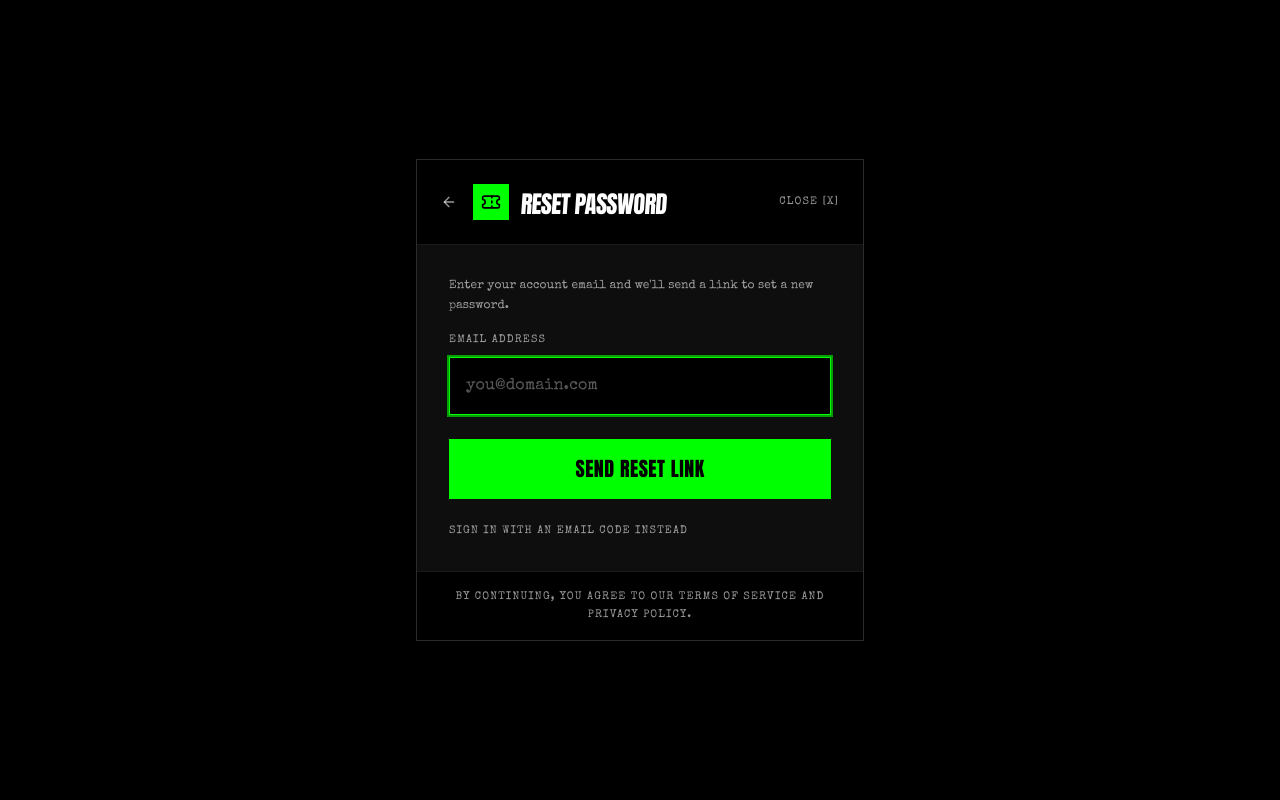
Test: AuthModal: forgot password › shows the same neutral message on success
This screenshot has width=1280, height=800.
Step 1. Type "Fan@Example.com" into the field labelled "Email Address" → (640, 386), box [449,357,831,415]
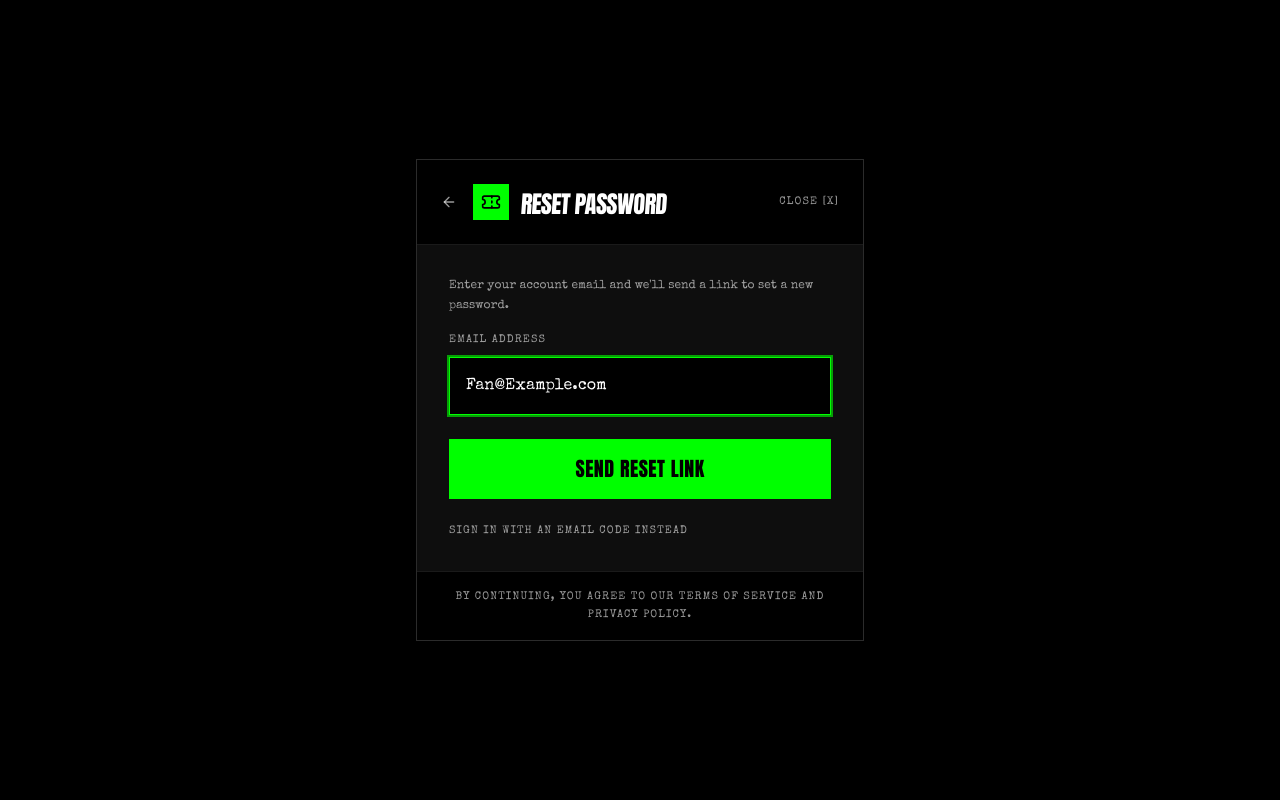
Step 2. Click the button "Send Reset Link" → (640, 469), box [449,439,831,499]
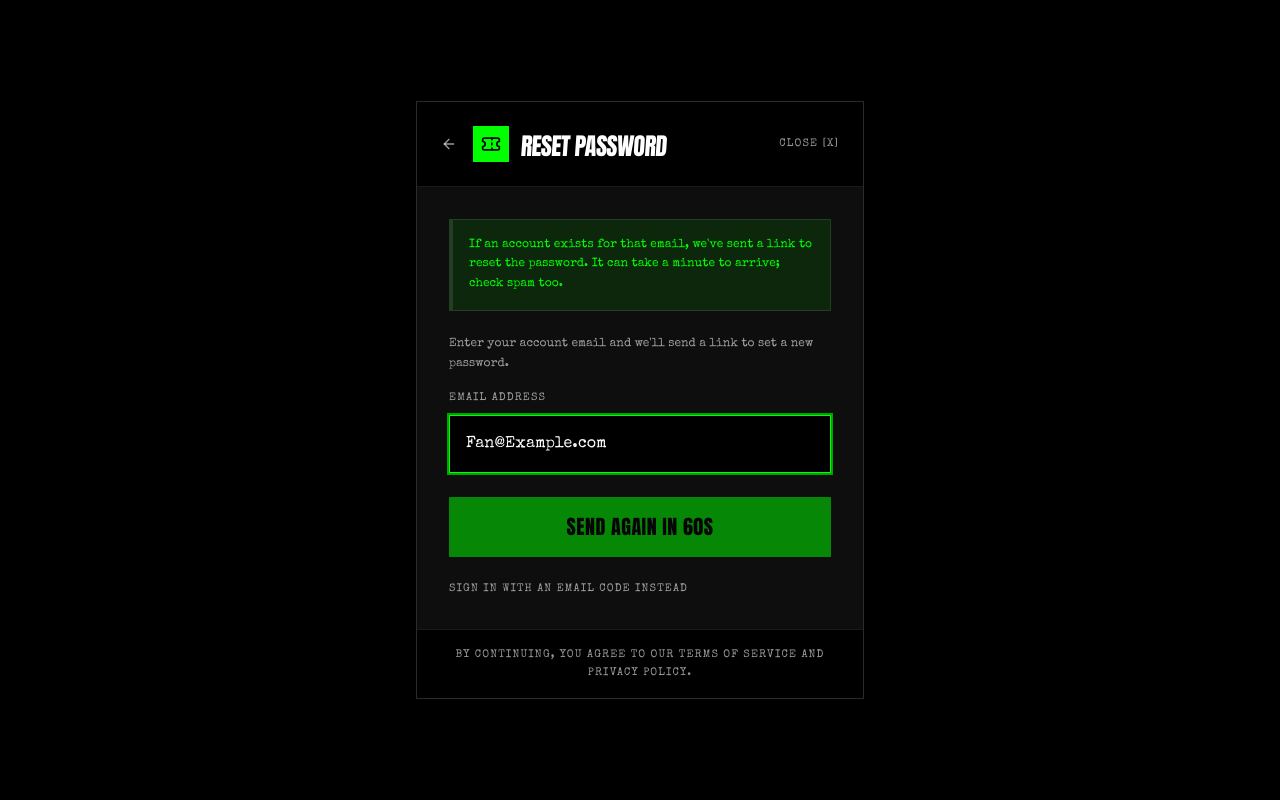
Expected: the message shows "If an account exists", [469,239,812,290]
